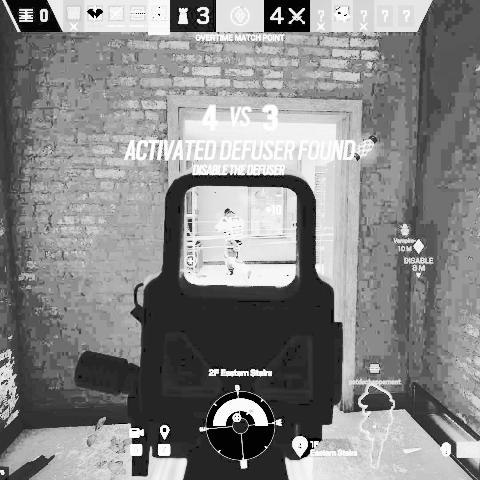Character: (216, 206, 253, 279)
Friend_label: (348, 362, 403, 386), (179, 254, 202, 273)
Head: (223, 206, 236, 218)
